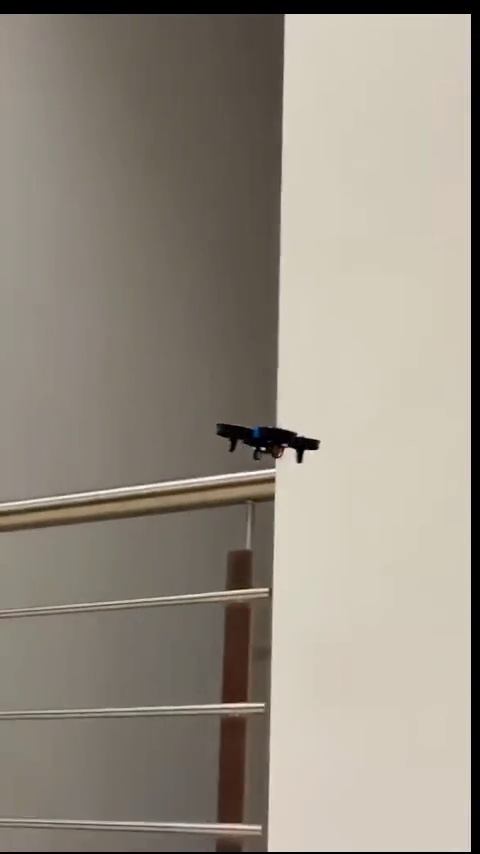drone: (221, 418, 321, 466)
